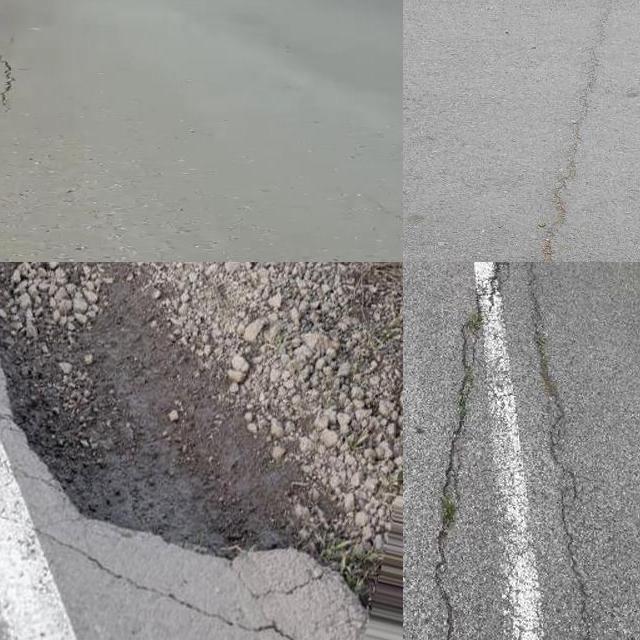Memanjang: (514, 262, 616, 640), (424, 262, 512, 640), (526, 0, 639, 262)
Pinggir: (0, 262, 401, 623)
